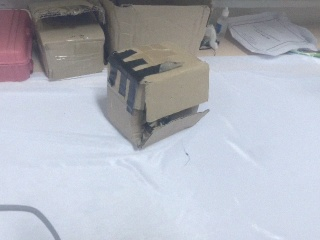box: (105, 48, 209, 149), (98, 1, 211, 61), (32, 1, 107, 79), (1, 6, 34, 85)
